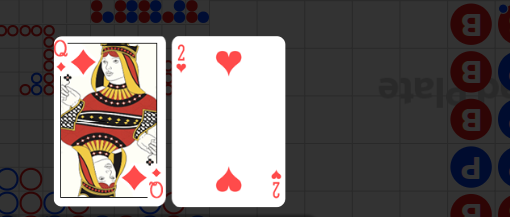2H: (269, 168, 282, 199)
QD: (66, 36, 110, 83), (133, 157, 177, 203)
